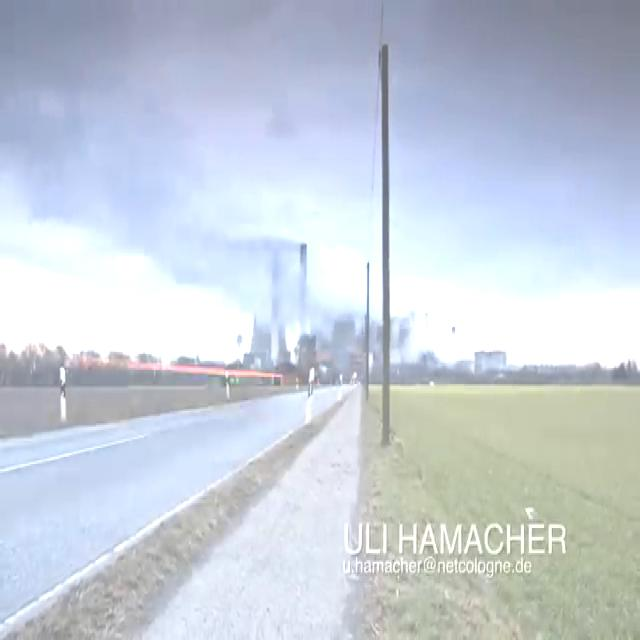smoke: (23, 43, 383, 325)
